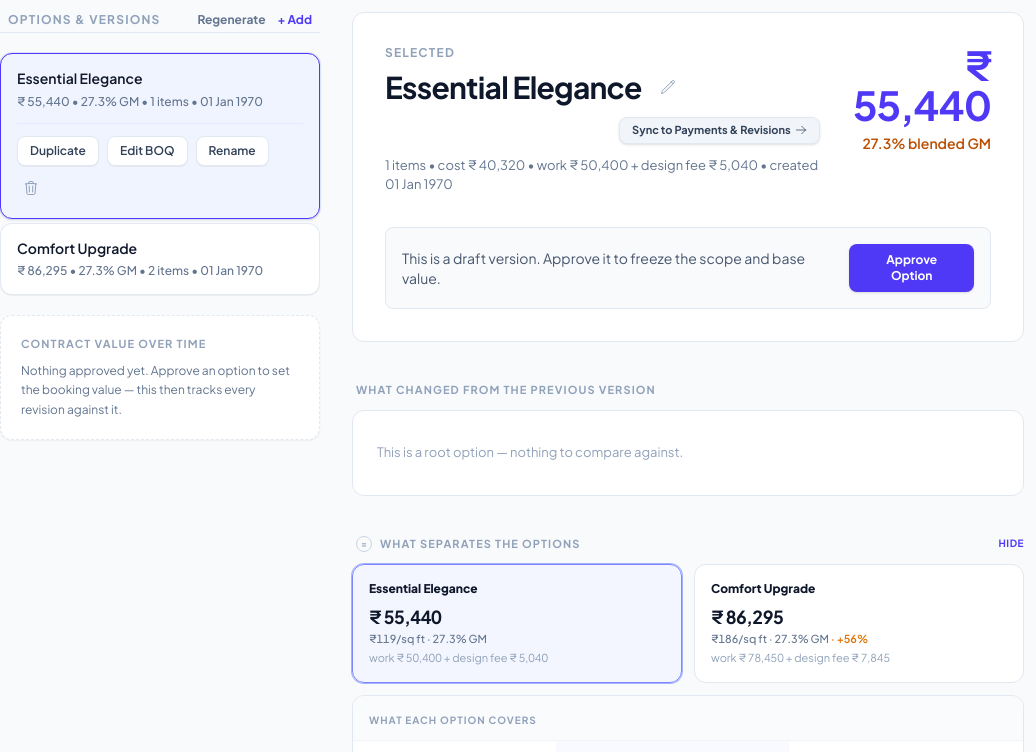
Test case: Pricing & Tiers: approving and syncing › Sync to a different option keeps a snapshot of the booked contract
This screenshot has width=1036, height=752.
Click the button "Approve Option" at [912, 268], box [850,244,974,292]
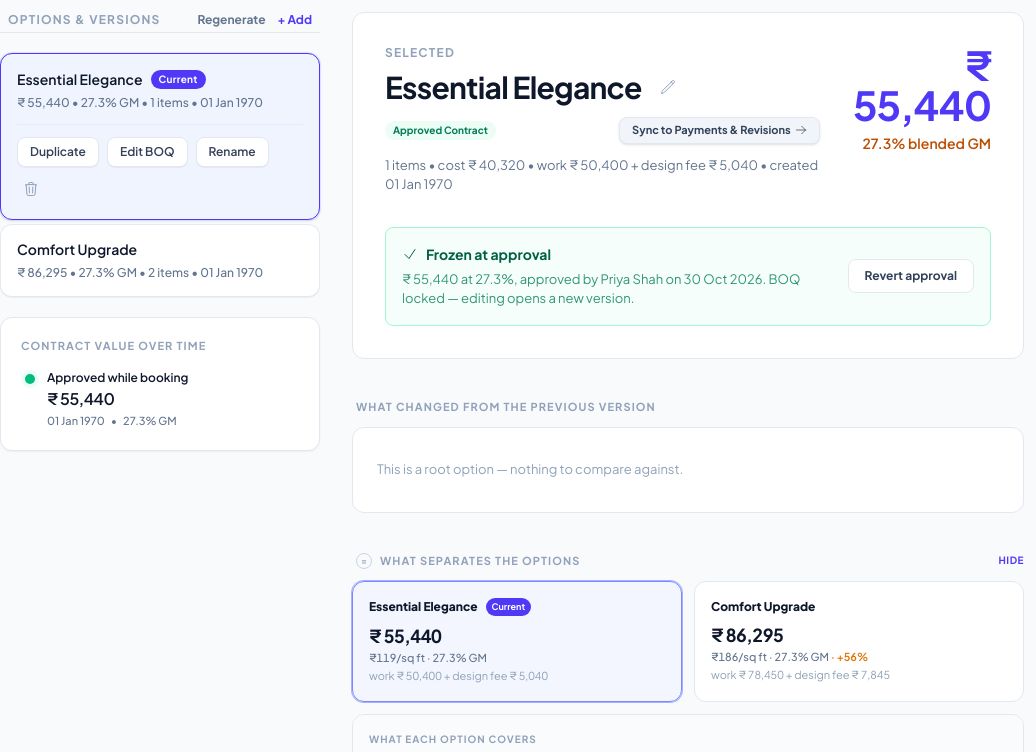
Move to the other option and sync it.
Click the 1st text "Comfort Upgrade" at [77, 250], box [17,241,137,258]
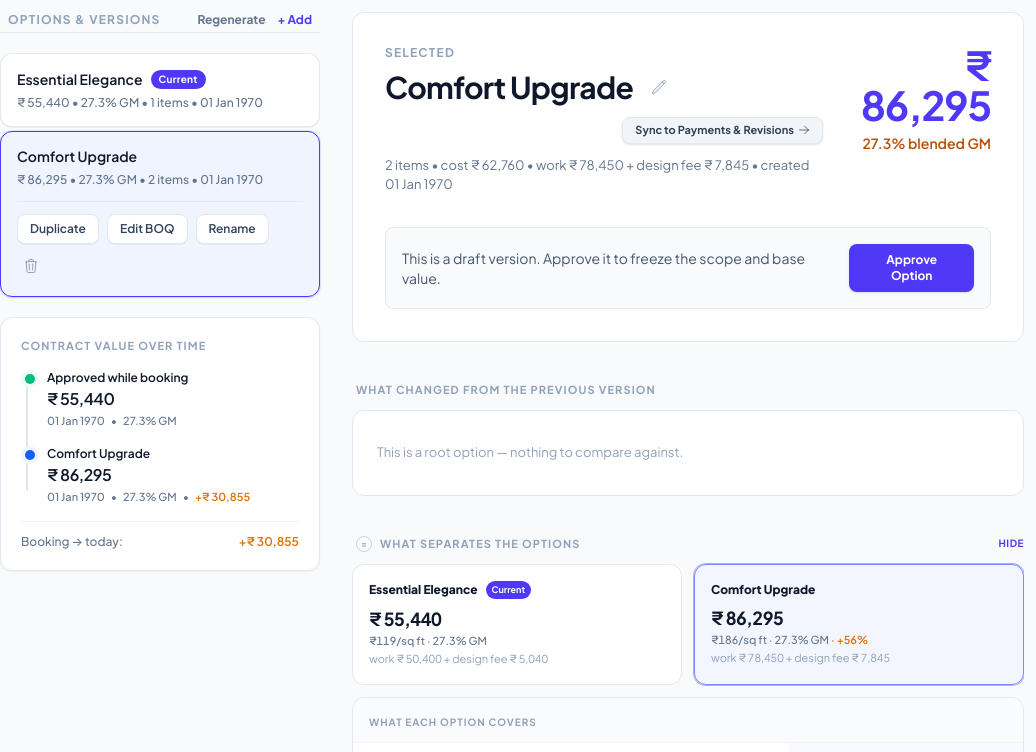
Click the button "Sync to Payments & Revisions" at [723, 130], box [622,117,823,144]
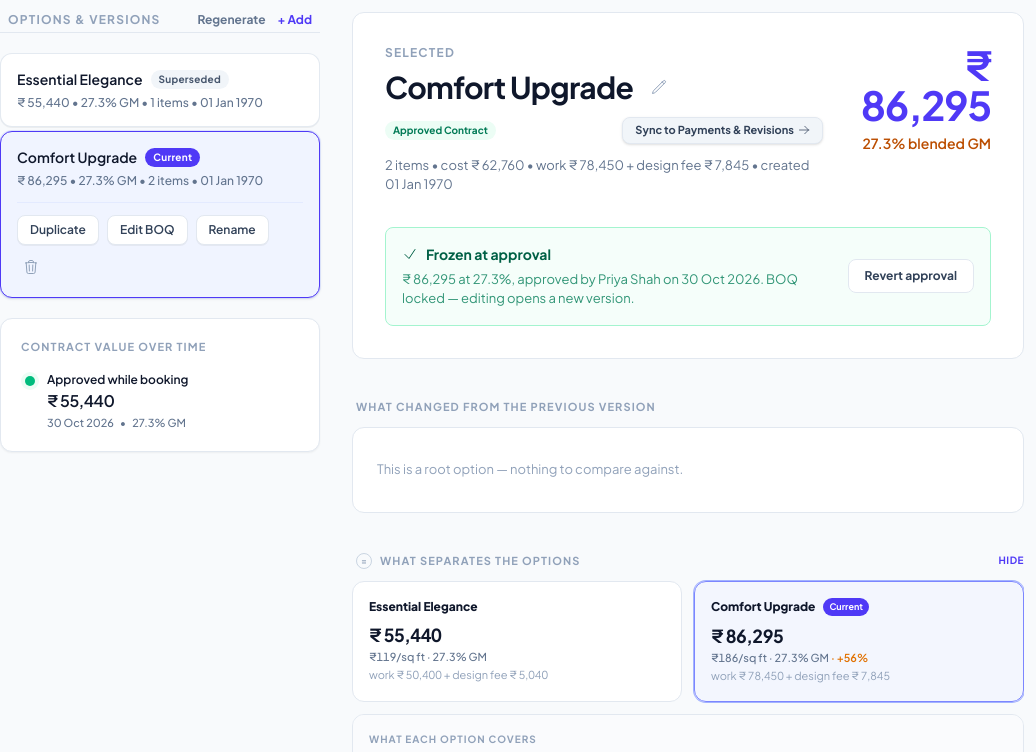
Now the text "Superseded" is shown, box [151,70,229,89]
